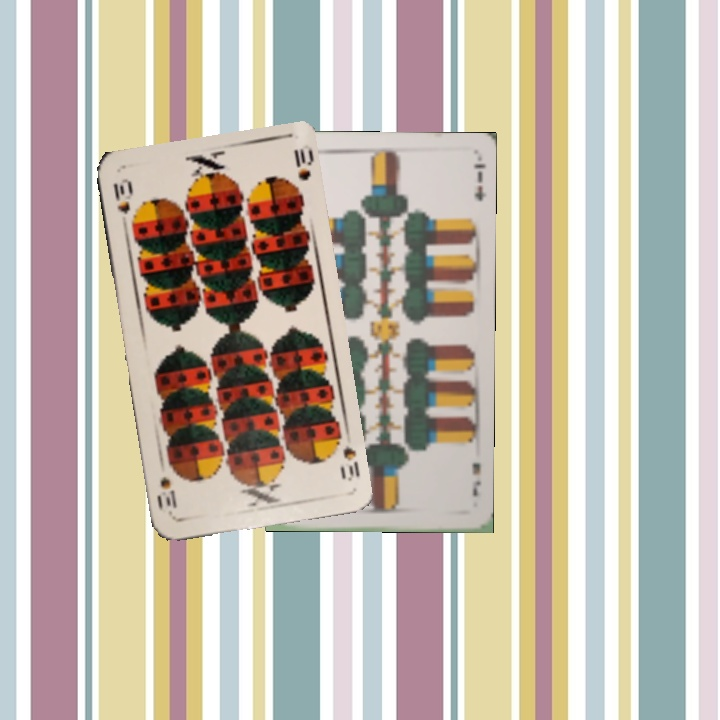E7: (467, 458, 483, 499)
S10: (109, 175, 133, 232), (336, 442, 363, 484)
